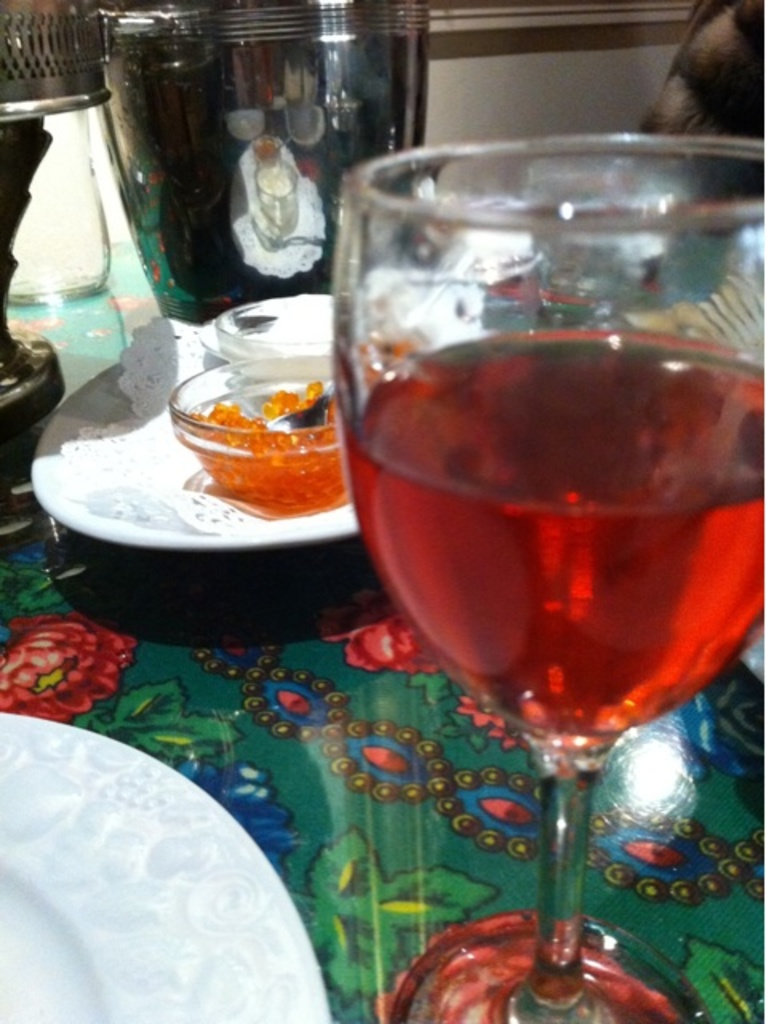plate: (0, 723, 342, 1022)
